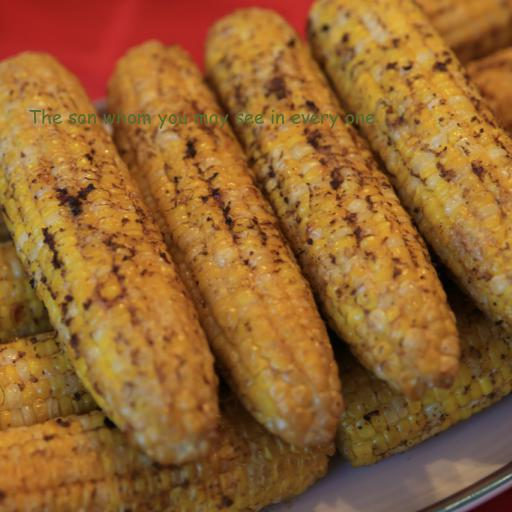Comic Sans MS: (27, 108, 375, 129)
